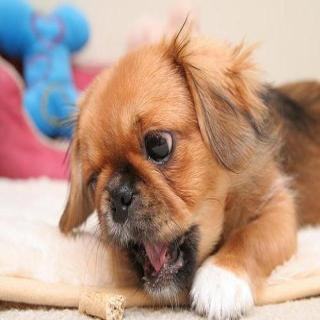dog: (80, 57, 229, 293)
nose: (103, 185, 142, 227)
